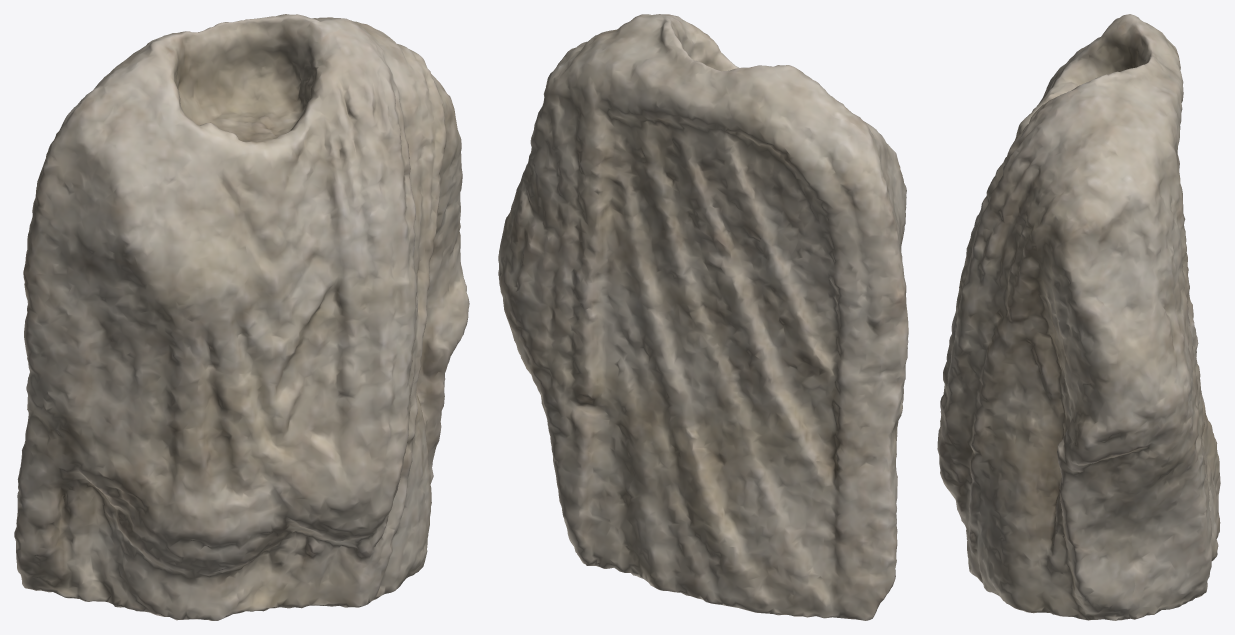
Rendered from 04_ESC_alcazar.glb.
3 renders of one model, left to right at view 1: azimuth 30°, elevation 25°; view 2: azimuth 150°, elevation 25°; view 3: azimuth 270°, elevation 25°, orthographic. The views are drawn at different scales.
Visible parts, largest first — view 1: ALCAZAR_LP; view 2: ALCAZAR_LP; view 3: ALCAZAR_LP.
Part boxes in pixels (box(x1,y1,x2,y2)): ALCAZAR_LP: box(14, 14, 469, 620); ALCAZAR_LP: box(498, 14, 908, 620); ALCAZAR_LP: box(937, 14, 1220, 620).
Bounding box in the file's own units: 0.7391 × 0.8946 × 0.453.
Materials: 1 (1 with a texture image).
